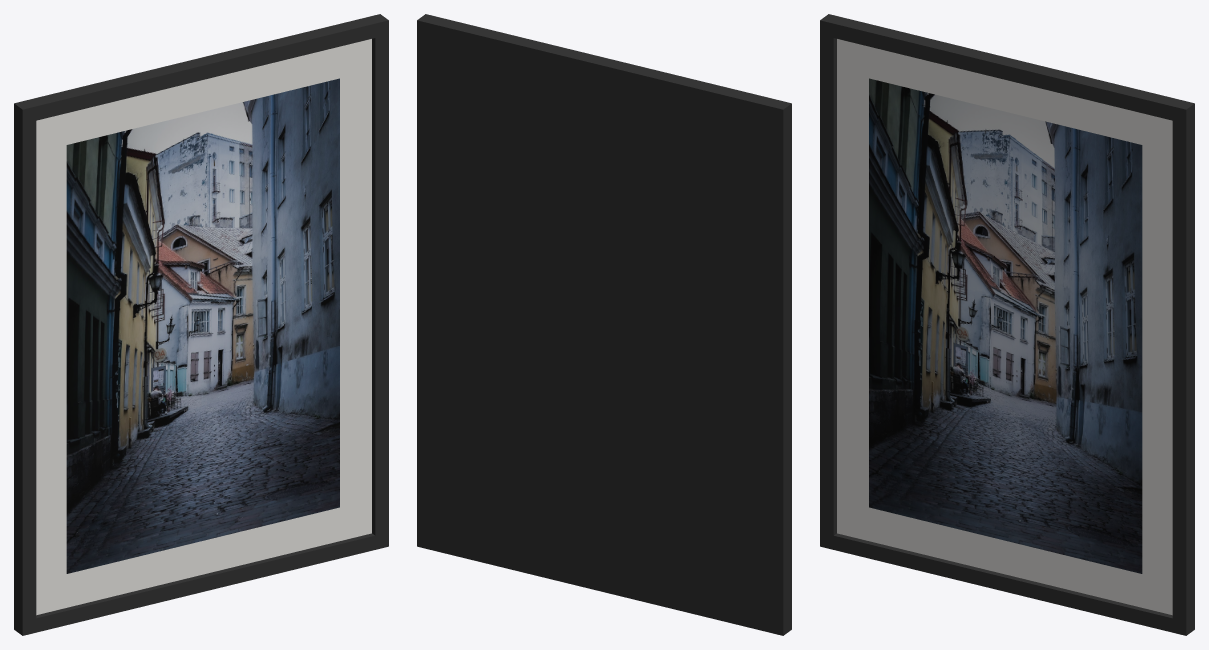
Rendered from granden-60.gltf.
3 renders of one model, left to right at view 1: azimuth 30°, elevation 25°; view 2: azimuth 150°, elevation 25°; view 3: azimuth 330°, elevation 25°, orthographic.
Parts seen in each view (by area): view 1: tavla; view 2: tavla; view 3: tavla.
Boxes of the visible parts, x1=… form: tavla: x1=14, y1=14, x2=388, y2=635; tavla: x1=417, y1=14, x2=791, y2=635; tavla: x1=820, y1=14, x2=1194, y2=635.
Bounding box in the file's own units: 0.536 × 0.736 × 0.022.
Materials: 3 (1 with a texture image).
